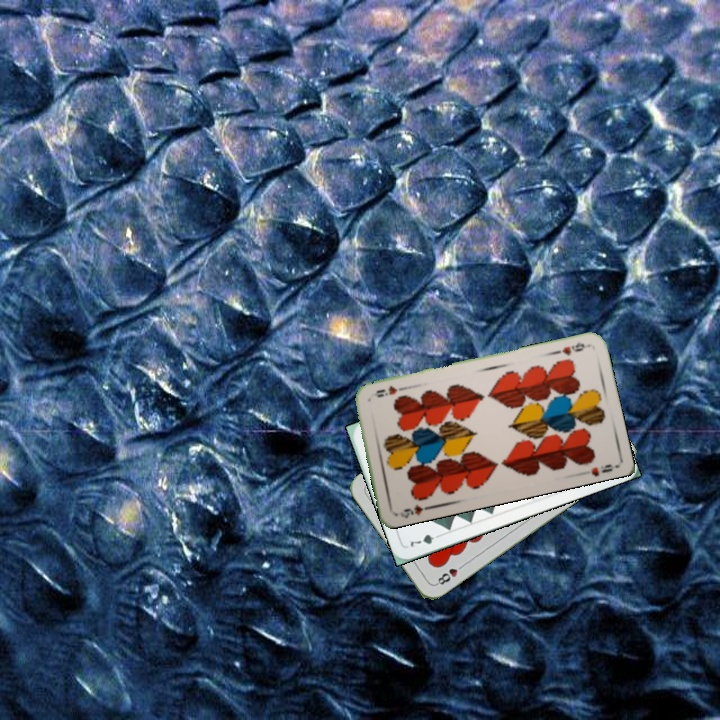G7: (406, 530, 445, 550)
H8: (432, 560, 467, 588)
H9: (396, 501, 434, 520), (558, 338, 591, 359)
